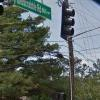Traffic light: (55, 3, 89, 47)
